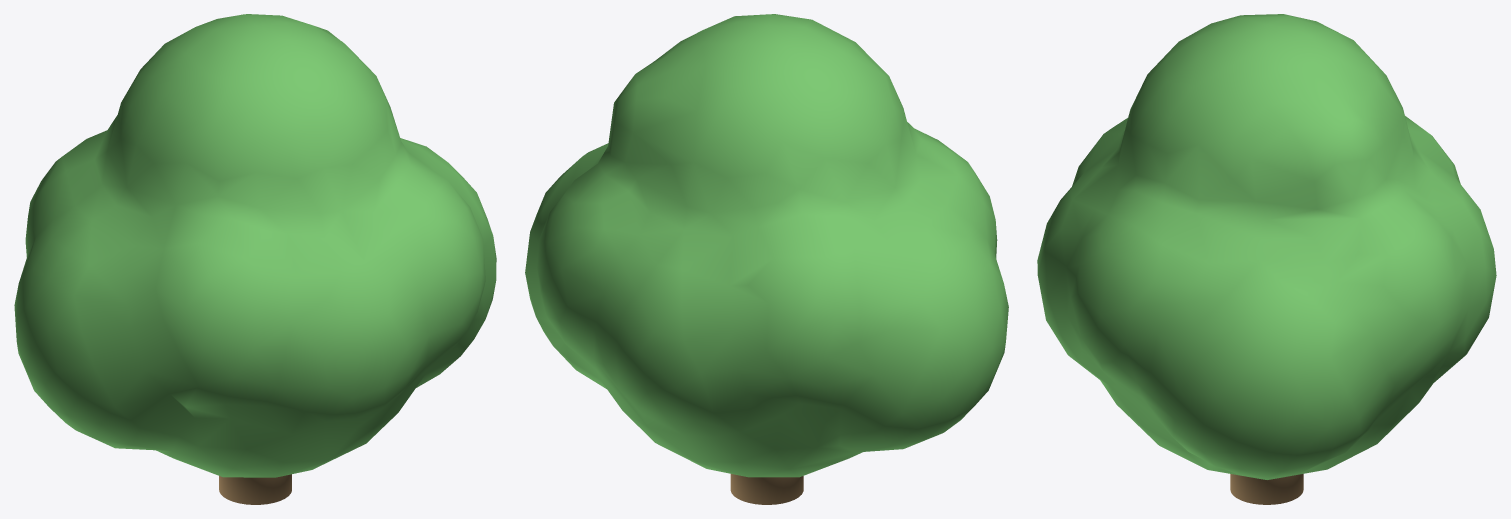
File: Bush.fbx
The picture shows the model from 3 angles, left to right: view 1: azimuth 30°, elevation 25°; view 2: azimuth 150°, elevation 25°; view 3: azimuth 270°, elevation 25°; orthographic projection.
Parts seen in each view (by area): view 1: Bush, Bush_Trunk; view 2: Bush, Bush_Trunk; view 3: Bush, Bush_Trunk.
Part boxes in pixels (x1=…): Bush: x1=14, y1=14, x2=496, y2=477; Bush_Trunk: x1=219, y1=474, x2=291, y2=504; Bush: x1=525, y1=14, x2=1008, y2=477; Bush_Trunk: x1=730, y1=474, x2=803, y2=504; Bush: x1=1037, y1=14, x2=1496, y2=479; Bush_Trunk: x1=1230, y1=474, x2=1303, y2=504.
Bounding box in the file's own units: 0.85 × 0.8383 × 0.7514.
